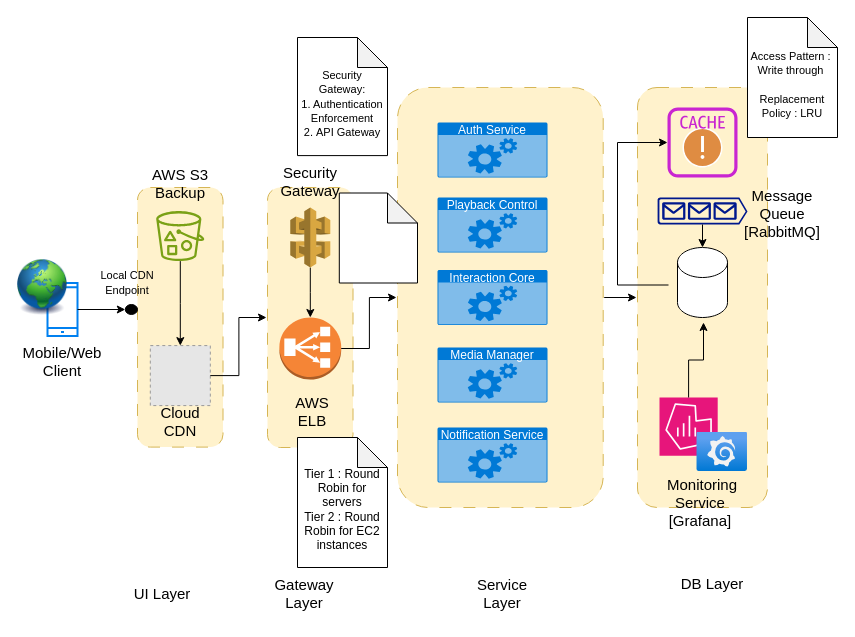
Some shapes in this 855 by 637 pixel diagram are drawn without their labels. Grey dashed boxes stand in for pictures. Each missing label, with the centre of its shape:
Rate Limiter: (100 requests per IP per 5 minutes): pixel 378 237
Session DB: pixel 702 282
